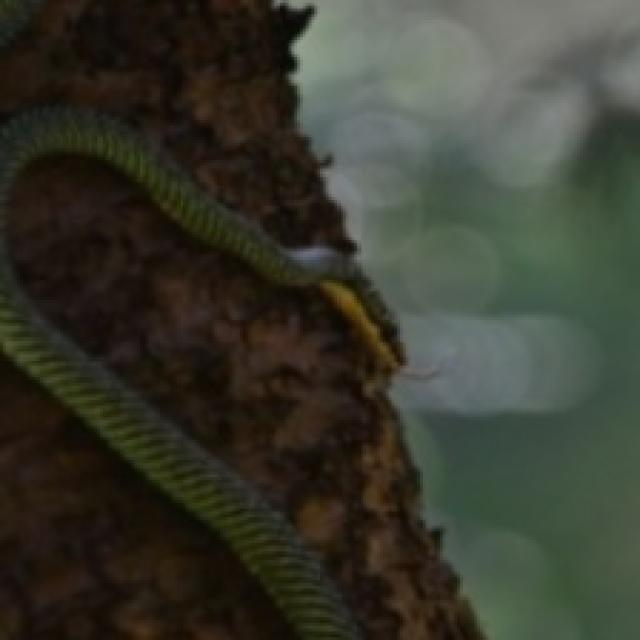paradise tree snake: (0, 0, 437, 637)
